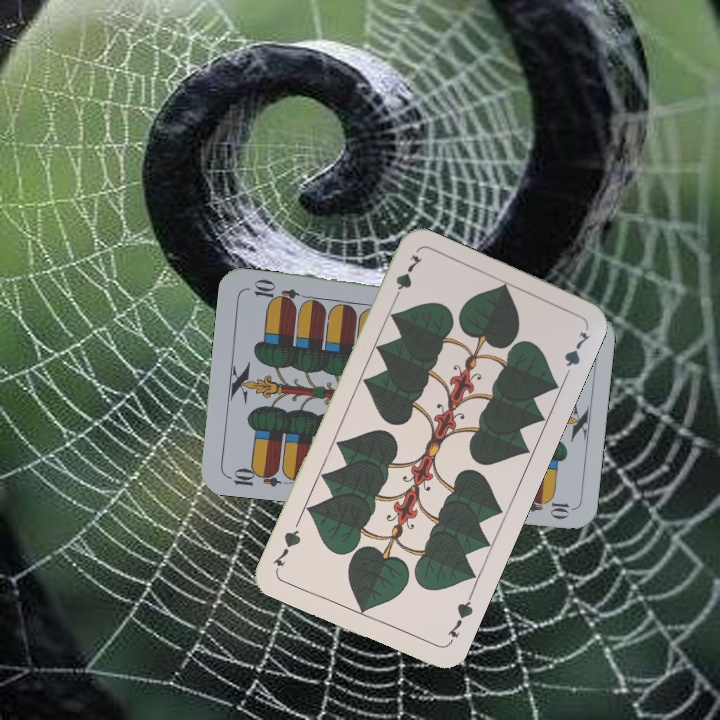E10: (223, 462, 282, 489)
G7: (388, 250, 425, 306), (443, 591, 476, 647)
